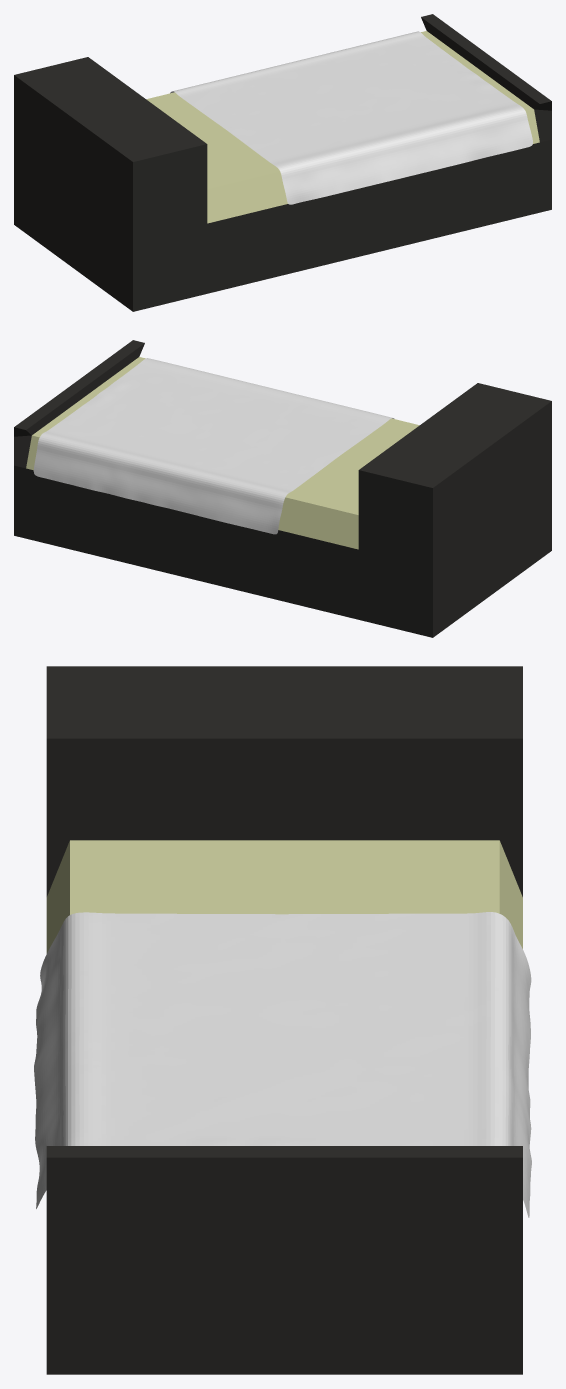
File: kasur and selimut.fbx
3 views of the same model, one above another, from view 1: azimuth 30°, elevation 25°; view 2: azimuth 150°, elevation 25°; view 3: azimuth 270°, elevation 25° (orthographic). The views are drawn at different scales.
Visible parts, largest first — view 1: Plane, Plane.001; view 2: Plane, Plane.001; view 3: Plane, Plane.001.
Boxes of the visible parts, x1=… form: Plane: x1=14, y1=14, x2=551, y2=311; Plane.001: x1=170, y1=31, x2=532, y2=204; Plane: x1=14, y1=340, x2=551, y2=637; Plane.001: x1=33, y1=358, x2=394, y2=534; Plane: x1=46, y1=666, x2=522, y2=1374; Plane.001: x1=34, y1=912, x2=531, y2=1217.
Size of the model in its own units: 790 by 270 by 407.
